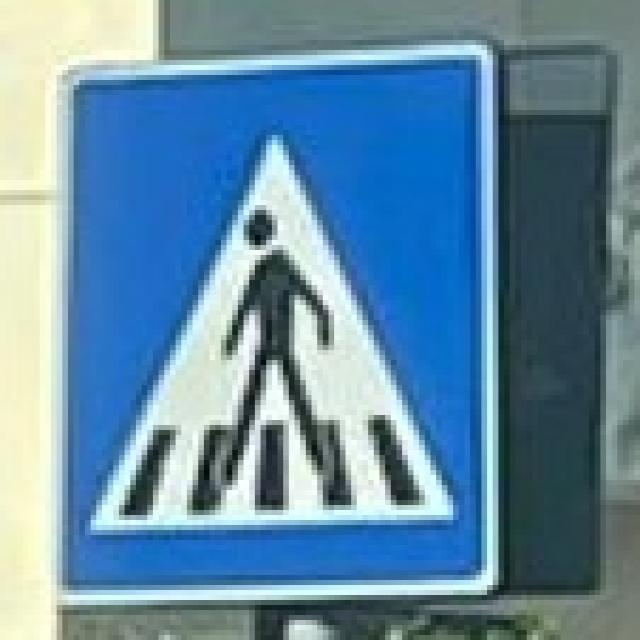info_crosswalk: (47, 36, 507, 605)
